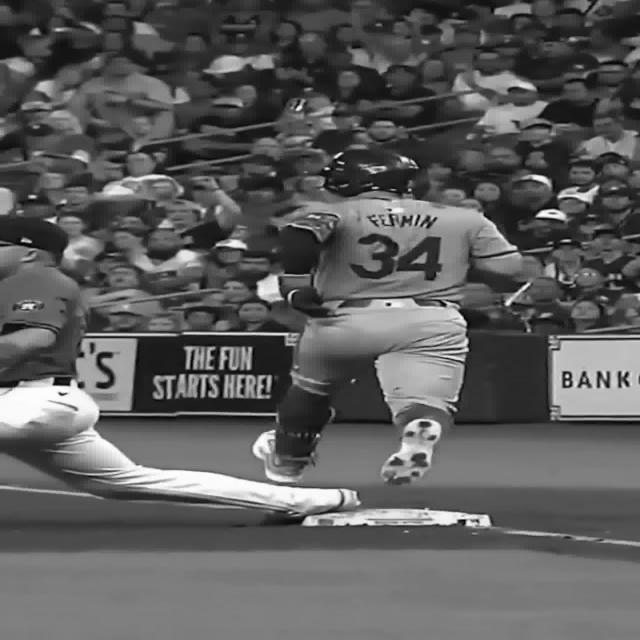base: (299, 507, 493, 529)
shoe: (379, 419, 441, 485), (251, 429, 321, 483), (276, 486, 362, 511)
